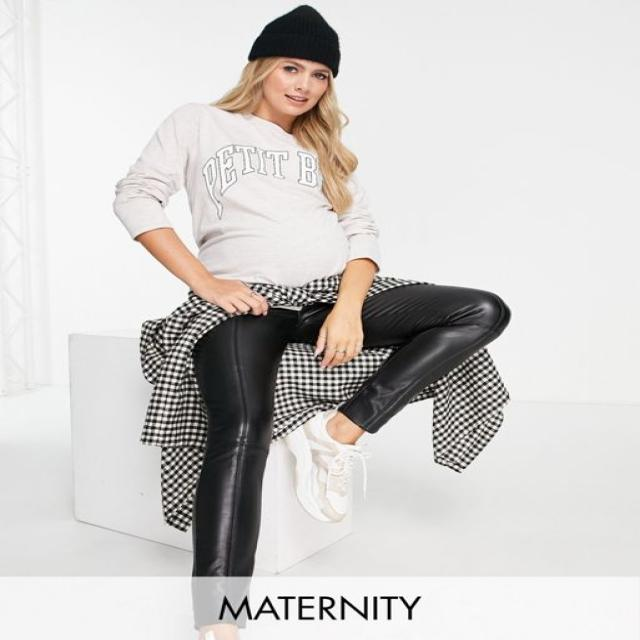tshirt: (111, 100, 383, 288)
